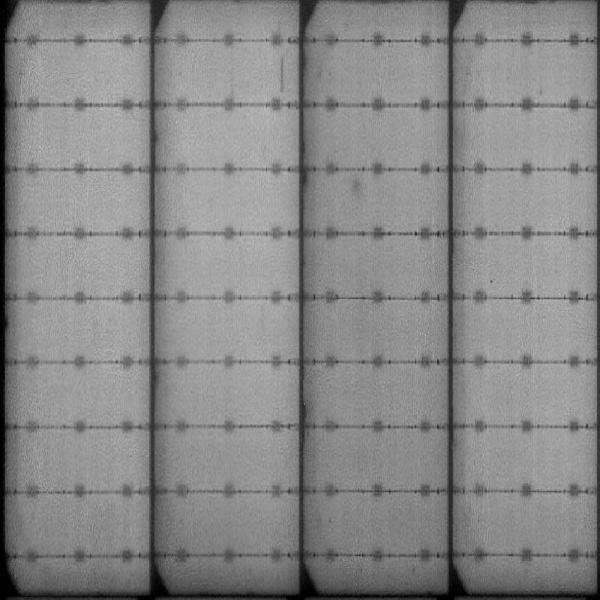scratch: (278, 56, 289, 99)
